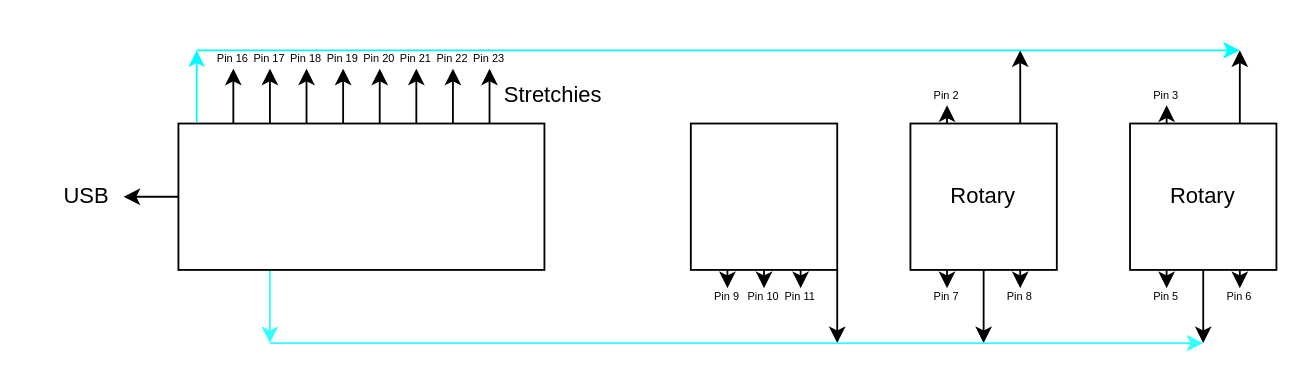
Some shapes in this 1308 by 390 pixel diagram are drawn without their labels. Each missing label, with the centre of its shape:
RGB: point (763, 196)
Teensy: point (360, 196)
